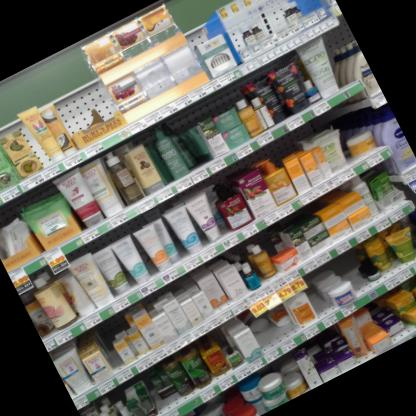empty_space: (339, 258, 372, 297), (306, 285, 332, 319), (101, 342, 127, 376), (256, 323, 286, 351), (155, 389, 186, 414)
